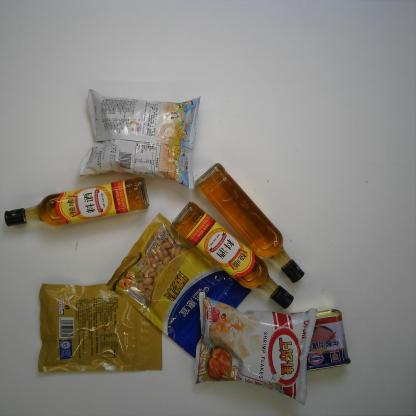Canned Food: (300, 307, 353, 373)
Dried Fruit: (104, 210, 254, 359), (34, 279, 164, 375)
Puffed Food: (194, 291, 318, 410), (76, 87, 202, 192)
Seasoner: (194, 162, 306, 284), (172, 200, 294, 310), (3, 175, 149, 233)
